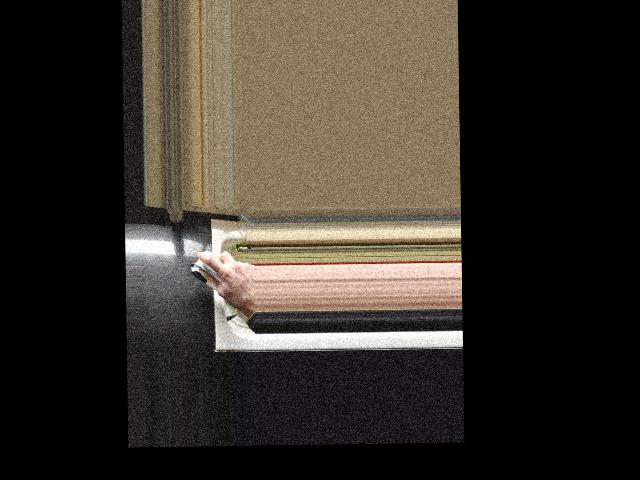cheese: (188, 253, 251, 300)
